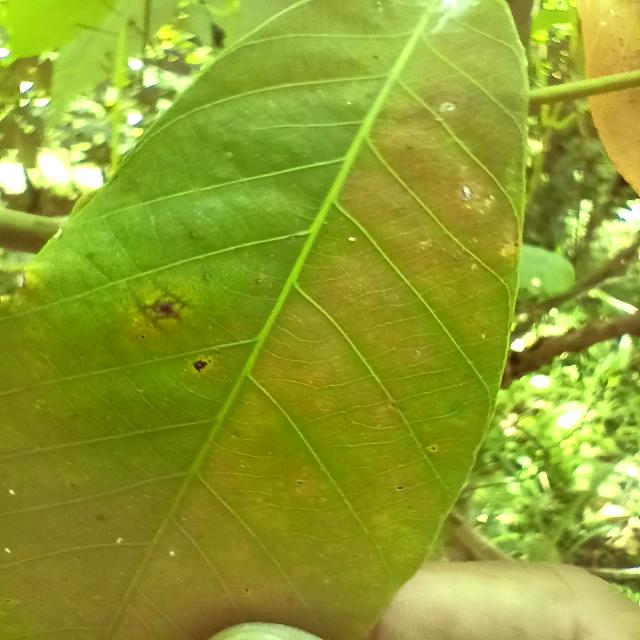Colletotrichum: (194, 360, 208, 370)
Corynespora: (132, 285, 194, 335)
